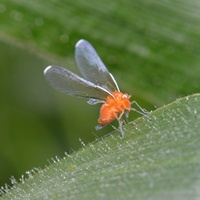insect: (44, 39, 150, 137)
